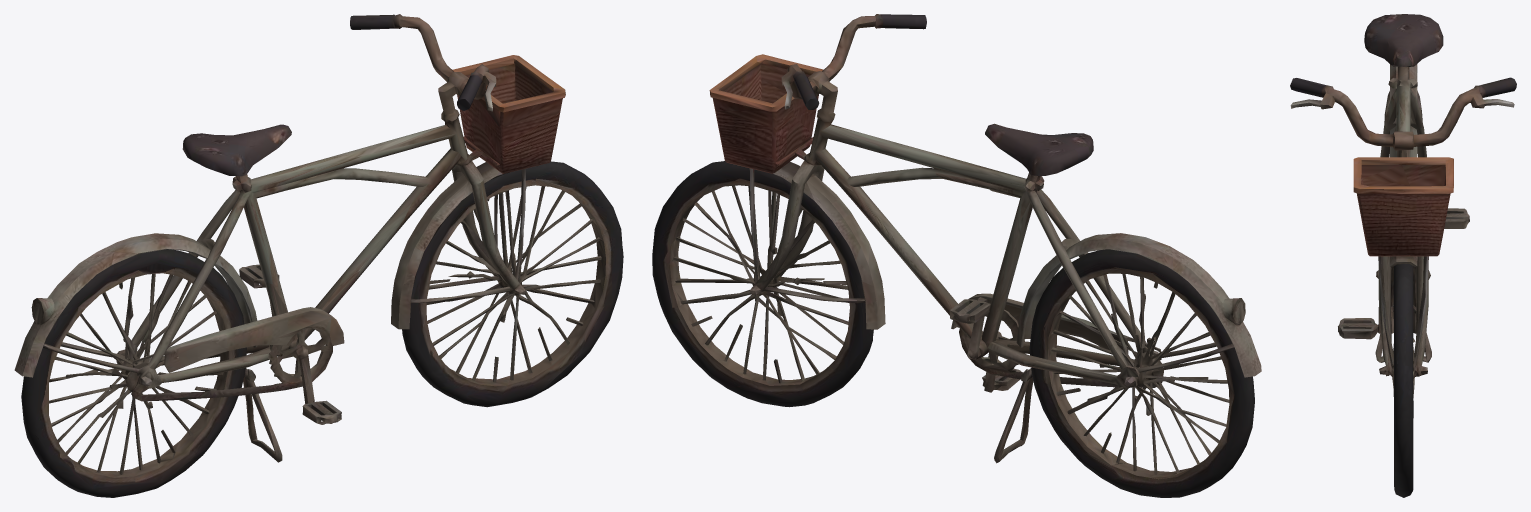
File: bicycle_idle.glb
3 views of the same model, side by side, from view 1: azimuth 30°, elevation 25°; view 2: azimuth 150°, elevation 25°; view 3: azimuth 270°, elevation 25° (orthographic). The views are drawn at different scales.
Visible parts, largest first — view 1: tripo_node_470be8fb-b091-4962-9f28-c10880d9c40f; view 2: tripo_node_470be8fb-b091-4962-9f28-c10880d9c40f; view 3: tripo_node_470be8fb-b091-4962-9f28-c10880d9c40f.
Boxes of the visible parts, x1,y1,x2,y2 form: tripo_node_470be8fb-b091-4962-9f28-c10880d9c40f: (14, 14, 623, 497); tripo_node_470be8fb-b091-4962-9f28-c10880d9c40f: (652, 14, 1261, 497); tripo_node_470be8fb-b091-4962-9f28-c10880d9c40f: (1290, 14, 1516, 497).
Bounding box in the file's own units: 1.8 × 1.08 × 0.6035.
1 material, 1 textured.
